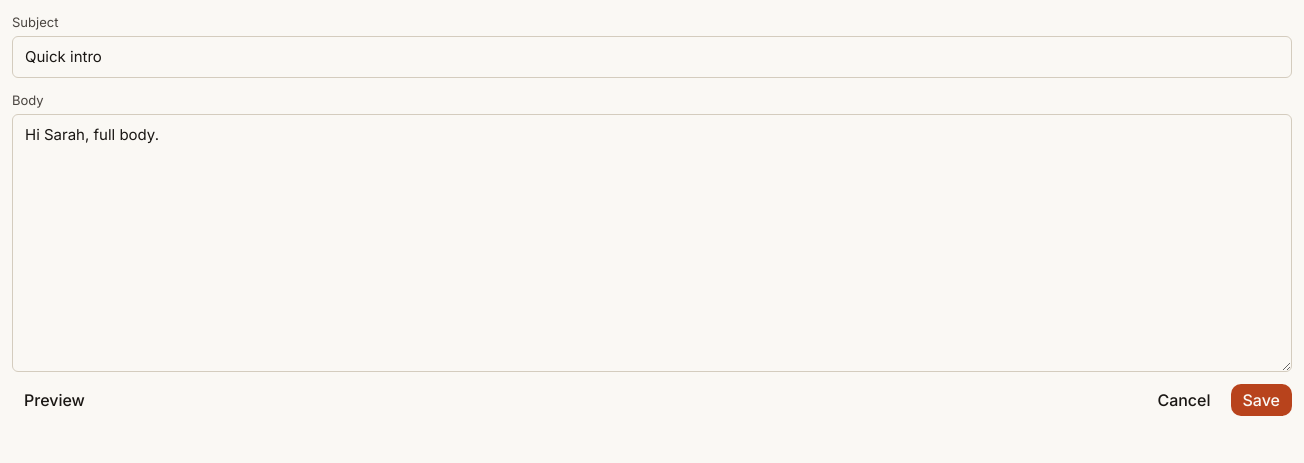
<CardEditor /> autosave › shows snag voice when save throws
The image size is (1304, 463).
Replace the text in the field named "Email subject" with "Different" at (652, 57), box [12,36,1292,78]
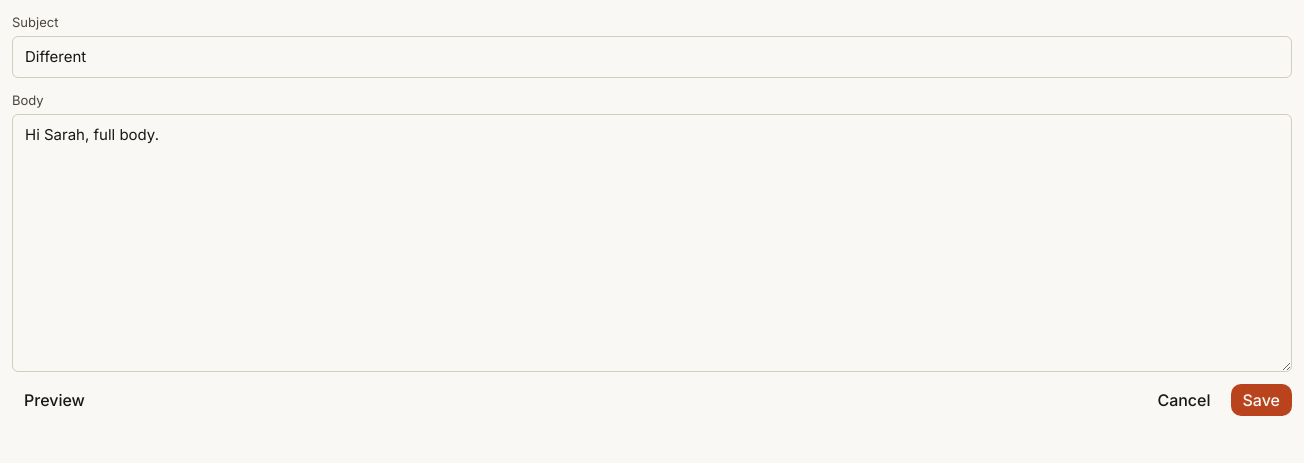
Click the button "Save".
click(1261, 400)  # box [1230,384,1292,416]
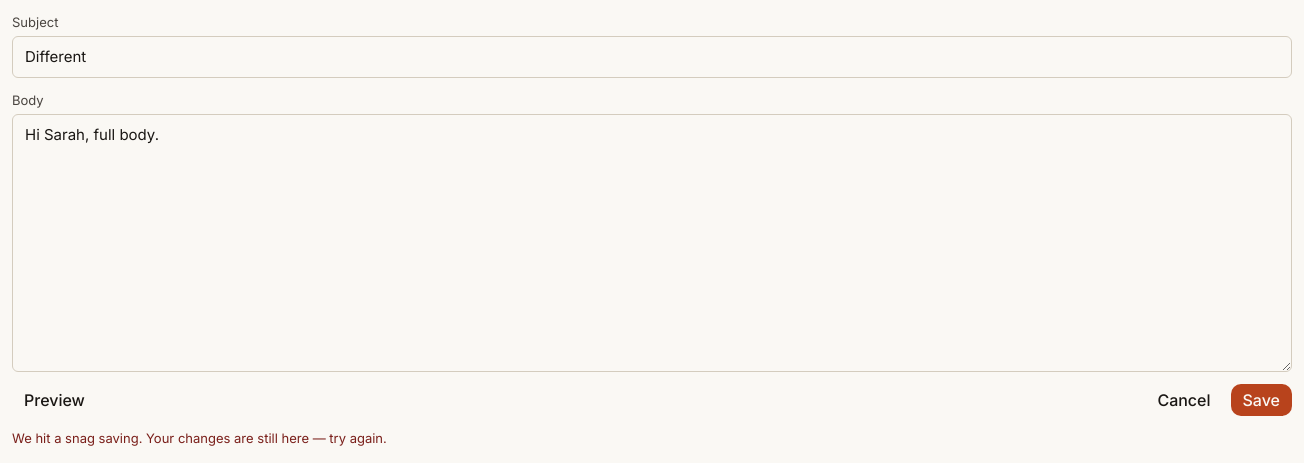
expect the text "We hit a snag saving. Your changes are still here — try again." is shown: met, box [12,430,387,446]
